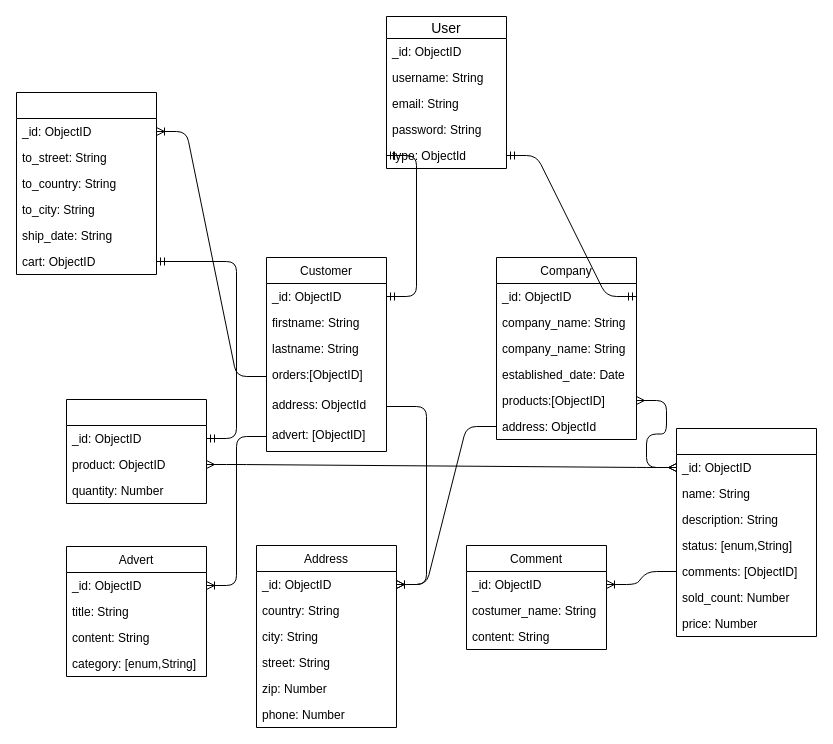
This 833x744 diagram has some shape labels left out. Here are the shapes that lost their labels. From the top down, the box of each, then its label:
(16, 92, 156, 274): Order
(66, 398, 206, 504): Cart
(676, 428, 816, 636): Product
